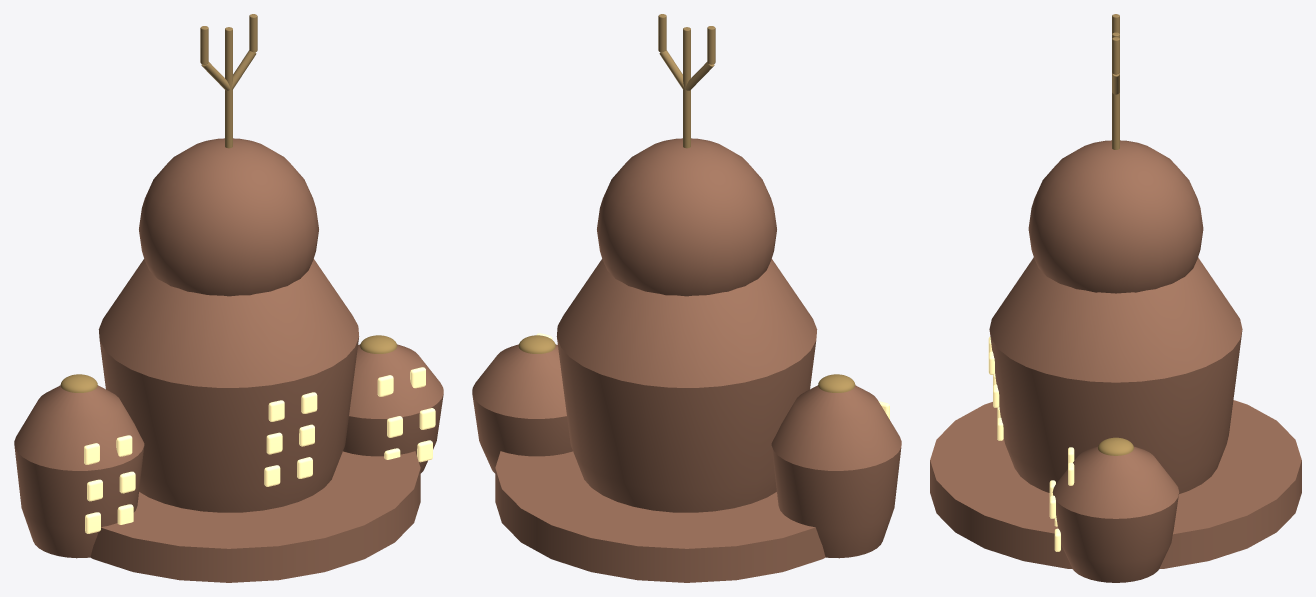
3 views of the same model, side by side, from view 1: azimuth 30°, elevation 25°; view 2: azimuth 150°, elevation 25°; view 3: azimuth 270°, elevation 25° (orthographic). The views are drawn at different scales.
Parts seen in each view (by area): view 1: Bulb shaped chamber, Foundation drum, Stacked rounded vessel, Bulb shaped chamber.002, Bulb shaped chamber.001, Aerial stem, Tower crown.001, Tower crown.002; view 2: Bulb shaped chamber, Foundation drum, Stacked rounded vessel, Bulb shaped chamber.002, Bulb shaped chamber.001, Aerial stem, Tower crown.001, Tower crown.002; view 3: Bulb shaped chamber, Foundation drum, Stacked rounded vessel, Bulb shaped chamber.001, Tower crown.001, Aerial stem.
Boxes of the visible parts, x1,y1,x2,y2 form: Bulb shaped chamber: (98, 259, 359, 512); Foundation drum: (90, 451, 420, 582); Stacked rounded vessel: (139, 138, 318, 296); Bulb shaped chamber.002: (14, 385, 144, 558); Bulb shaped chamber.001: (343, 344, 443, 473); Aerial stem: (225, 27, 232, 148); Tower crown.001: (360, 335, 397, 353); Tower crown.002: (60, 374, 97, 392); Bulb shaped chamber: (556, 259, 817, 512); Foundation drum: (495, 451, 825, 582); Stacked rounded vessel: (597, 138, 776, 296); Bulb shaped chamber.002: (771, 385, 901, 558); Bulb shaped chamber.001: (472, 344, 572, 473); Aerial stem: (683, 27, 690, 148); Tower crown.001: (518, 335, 555, 353); Tower crown.002: (818, 374, 855, 392); Bulb shaped chamber: (989, 257, 1242, 493); Foundation drum: (930, 400, 1301, 568); Stacked rounded vessel: (1028, 140, 1203, 293); Bulb shaped chamber.001: (1052, 446, 1179, 582); Tower crown.001: (1098, 437, 1133, 455); Aerial stem: (1112, 32, 1119, 149).
Size of the model in its own units: 2.53 by 2.82 by 2.04.
